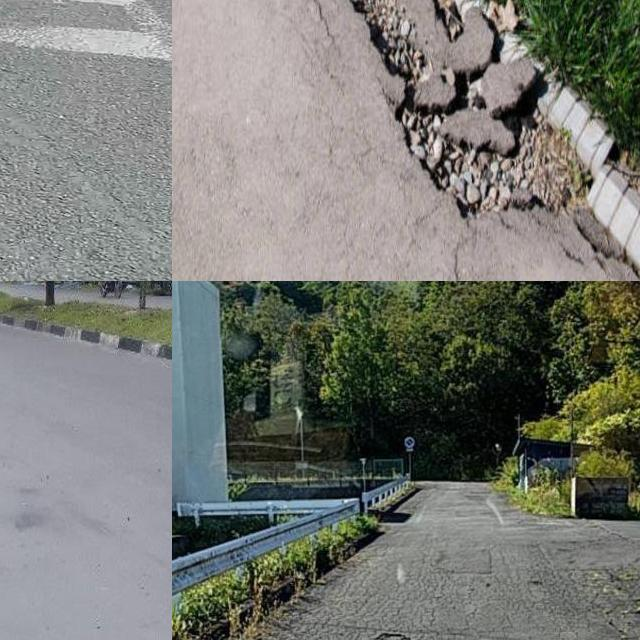Pinggir: (313, 0, 640, 243)
Retak Buaya: (264, 586, 454, 640)
